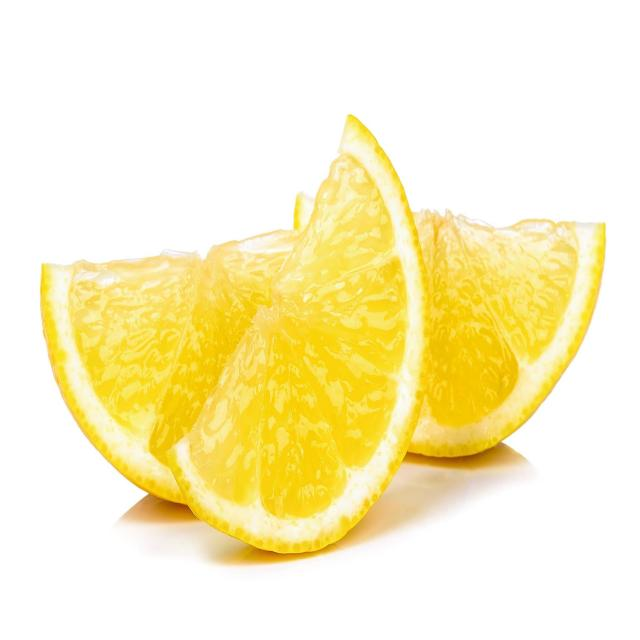lemon: (32, 107, 616, 560)
